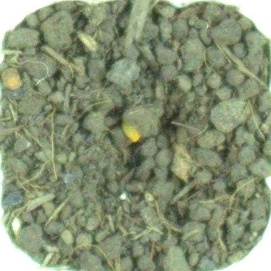pepper seed: (45, 41, 198, 184)
